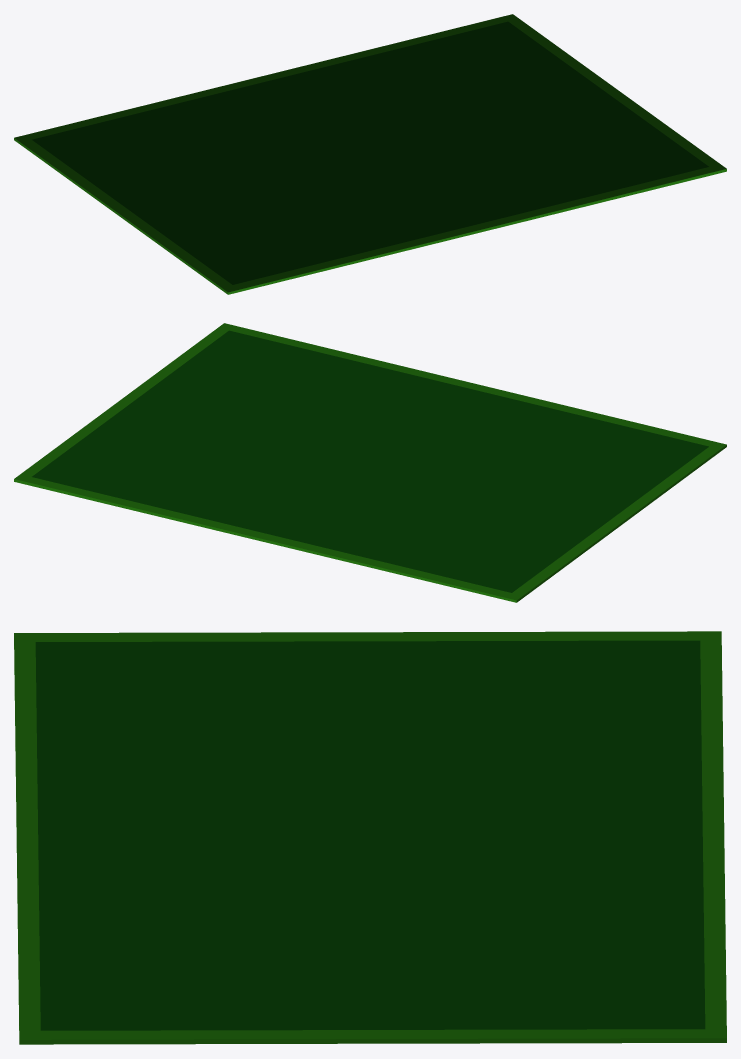
File: Green Rectangle.fbx
The picture shows the model from 3 angles, top to bottom: view 1: azimuth 30°, elevation 25°; view 2: azimuth 150°, elevation 25°; view 3: azimuth 270°, elevation 25°; orthographic projection. The views are drawn at different scales.
Visible parts, largest first — view 1: Node 0; view 2: Node 0; view 3: Node 0.
Part boxes in pixels (x1,y1,x2,y2): Node 0: (14,14,726,294); Node 0: (14,323,726,602); Node 0: (14,631,726,1044).
Bounding box in the file's own units: 1.54 × 0.0111 × 2.09.
